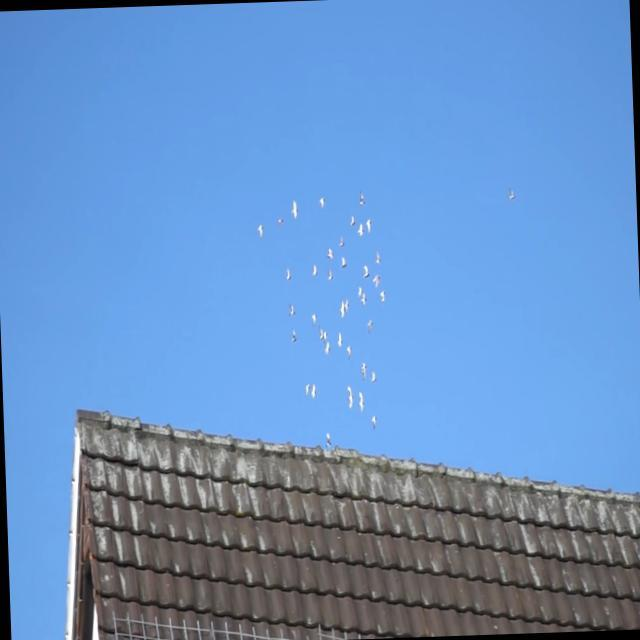bird: (315, 322, 327, 342), (356, 388, 365, 414), (345, 384, 353, 410), (337, 298, 345, 321), (290, 196, 298, 218), (359, 359, 367, 381), (284, 266, 293, 285), (323, 431, 332, 450), (370, 273, 381, 288), (365, 317, 374, 335), (358, 189, 366, 209), (363, 217, 373, 233), (290, 326, 298, 346), (362, 263, 370, 282), (369, 368, 377, 387), (309, 381, 317, 400), (325, 266, 334, 282), (335, 331, 343, 349), (324, 247, 334, 261), (374, 249, 382, 266), (287, 302, 295, 319), (322, 341, 331, 356), (339, 254, 347, 270), (309, 262, 317, 278), (378, 289, 386, 305), (370, 413, 378, 429), (318, 195, 327, 209), (345, 342, 352, 360), (343, 297, 350, 314), (256, 223, 265, 236), (338, 235, 346, 249), (361, 291, 367, 309), (355, 284, 362, 299), (304, 382, 311, 397), (357, 223, 364, 237), (310, 311, 317, 325), (349, 215, 355, 227), (277, 217, 282, 223)
